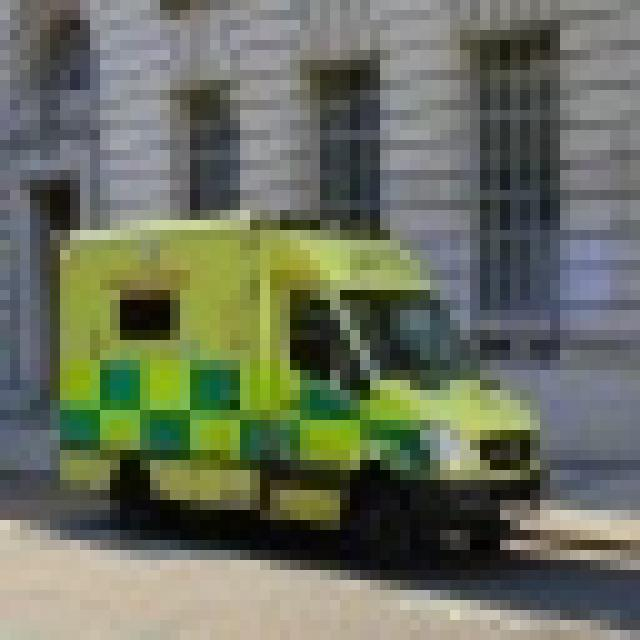Ambulance: (50, 200, 540, 560)
